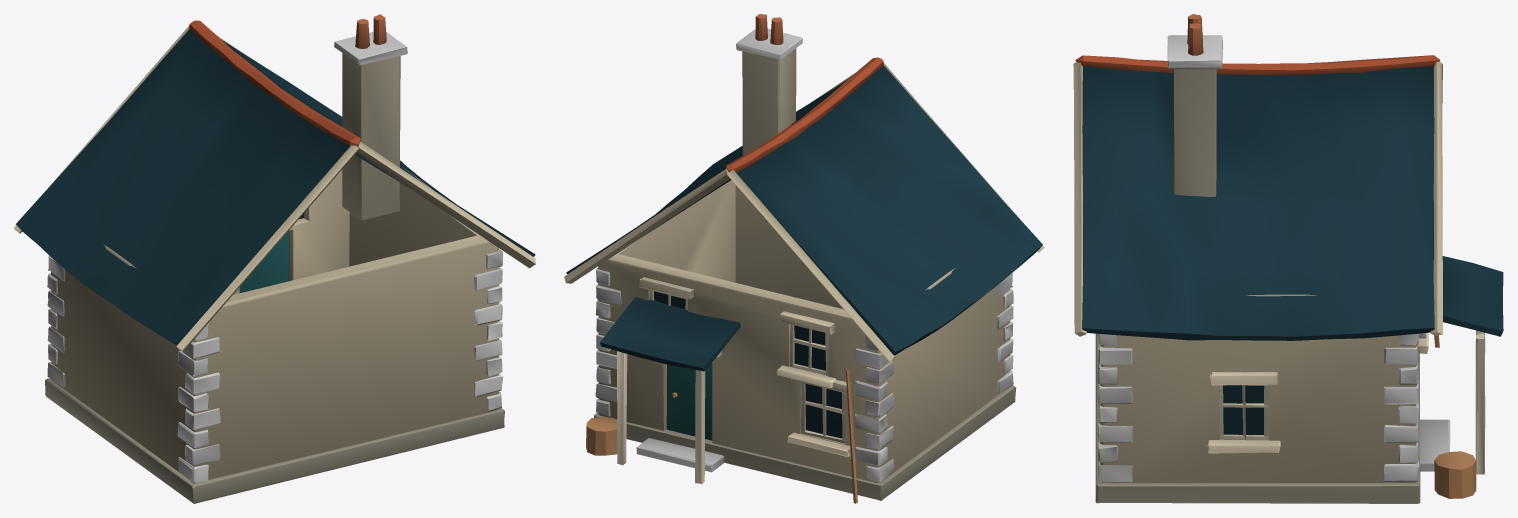
The model's file is house_0.glb.
The picture shows the model from 3 angles, left to right: view 1: azimuth 30°, elevation 25°; view 2: azimuth 150°, elevation 25°; view 3: azimuth 270°, elevation 25°; orthographic projection. The views are drawn at different scales.
Parts seen in each view (by area): view 1: house_0; view 2: house_0; view 3: house_0.
Boxes of the visible parts, x1,y1,x2,y2 form: house_0: (14, 14, 535, 503); house_0: (564, 14, 1044, 503); house_0: (1073, 14, 1503, 503).
Bounding box in the file's own units: 6.36 × 6.72 × 6.
